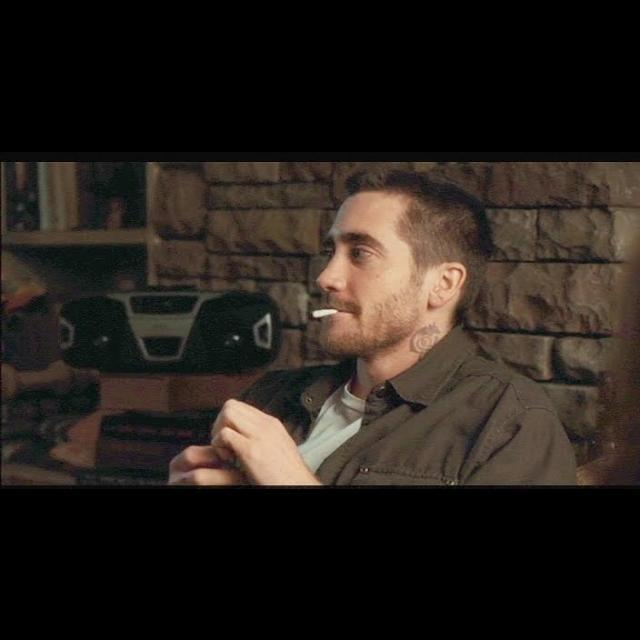rokok: (311, 305, 341, 319)
